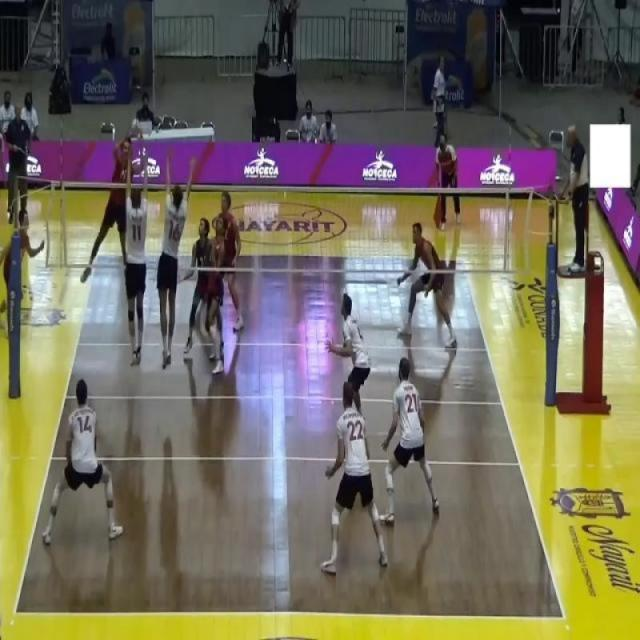volleyball: (130, 118, 141, 138)
